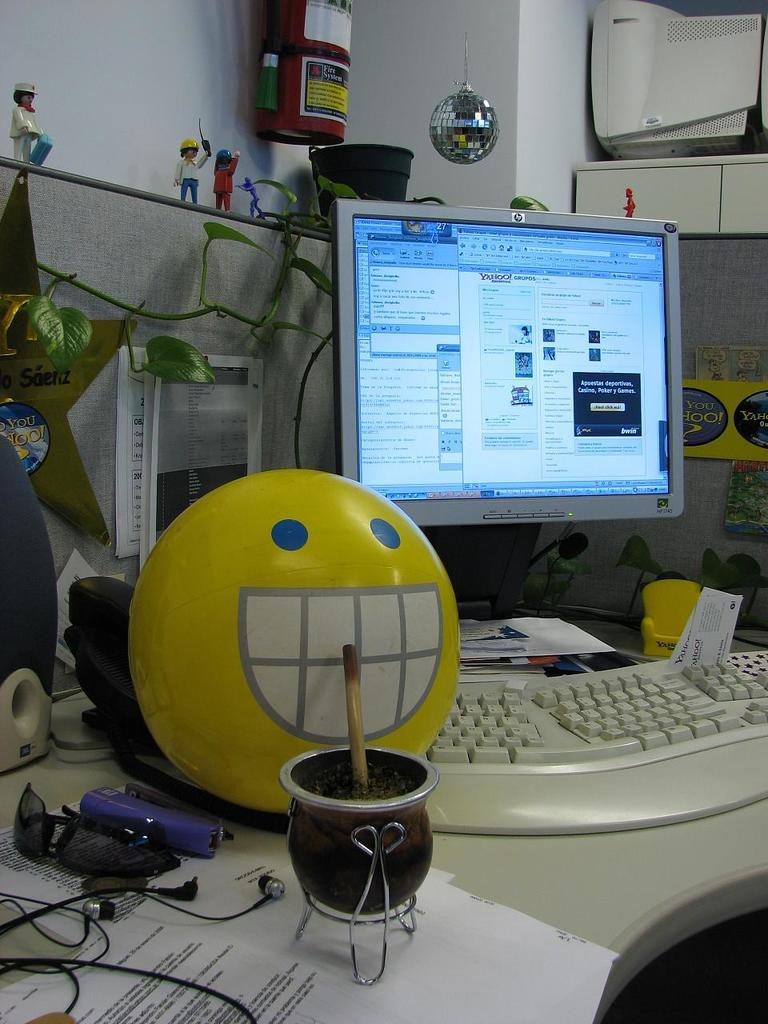Computer-keyboard: (422, 659, 767, 830)
Computer-monitor: (330, 202, 685, 626)
